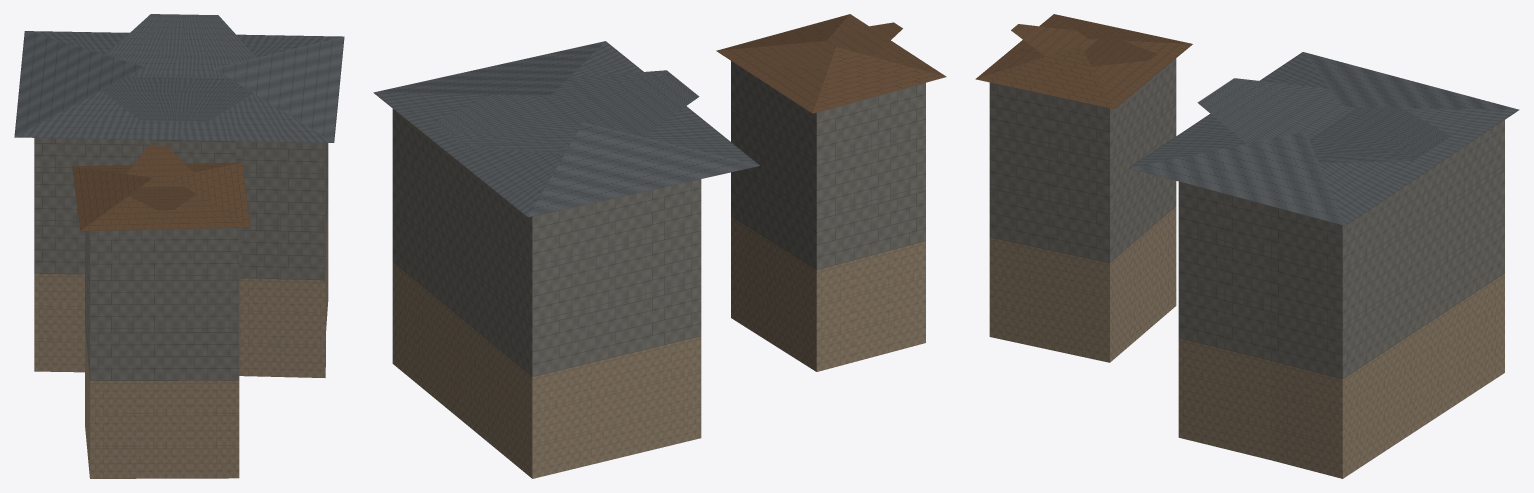
Rendered from bld_c41_-36_376.gltf.
The picture shows the model from 3 angles, left to right: view 1: azimuth 30°, elevation 25°; view 2: azimuth 150°, elevation 25°; view 3: azimuth 270°, elevation 25°; orthographic projection. The views are drawn at different scales.
Visible parts, largest first — view 1: bld_c41_-36_376; view 2: bld_c41_-36_376; view 3: bld_c41_-36_376.
Part boxes in pixels (bbox=[...]): bld_c41_-36_376: bbox=[14, 14, 344, 478]; bld_c41_-36_376: bbox=[373, 14, 946, 478]; bld_c41_-36_376: bbox=[975, 14, 1519, 478].
Size of the model in its own units: 22.23 by 14.9 by 25.28.
Materials: 4 (4 with a texture image).
